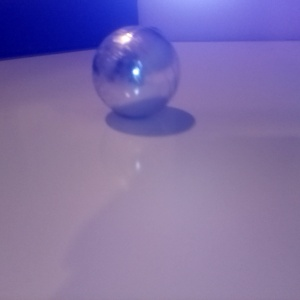alive_ball: (118, 46, 251, 179), (251, 55, 300, 185), (118, 38, 171, 90)
dead_ball: (1, 20, 41, 90), (161, 28, 208, 76)
